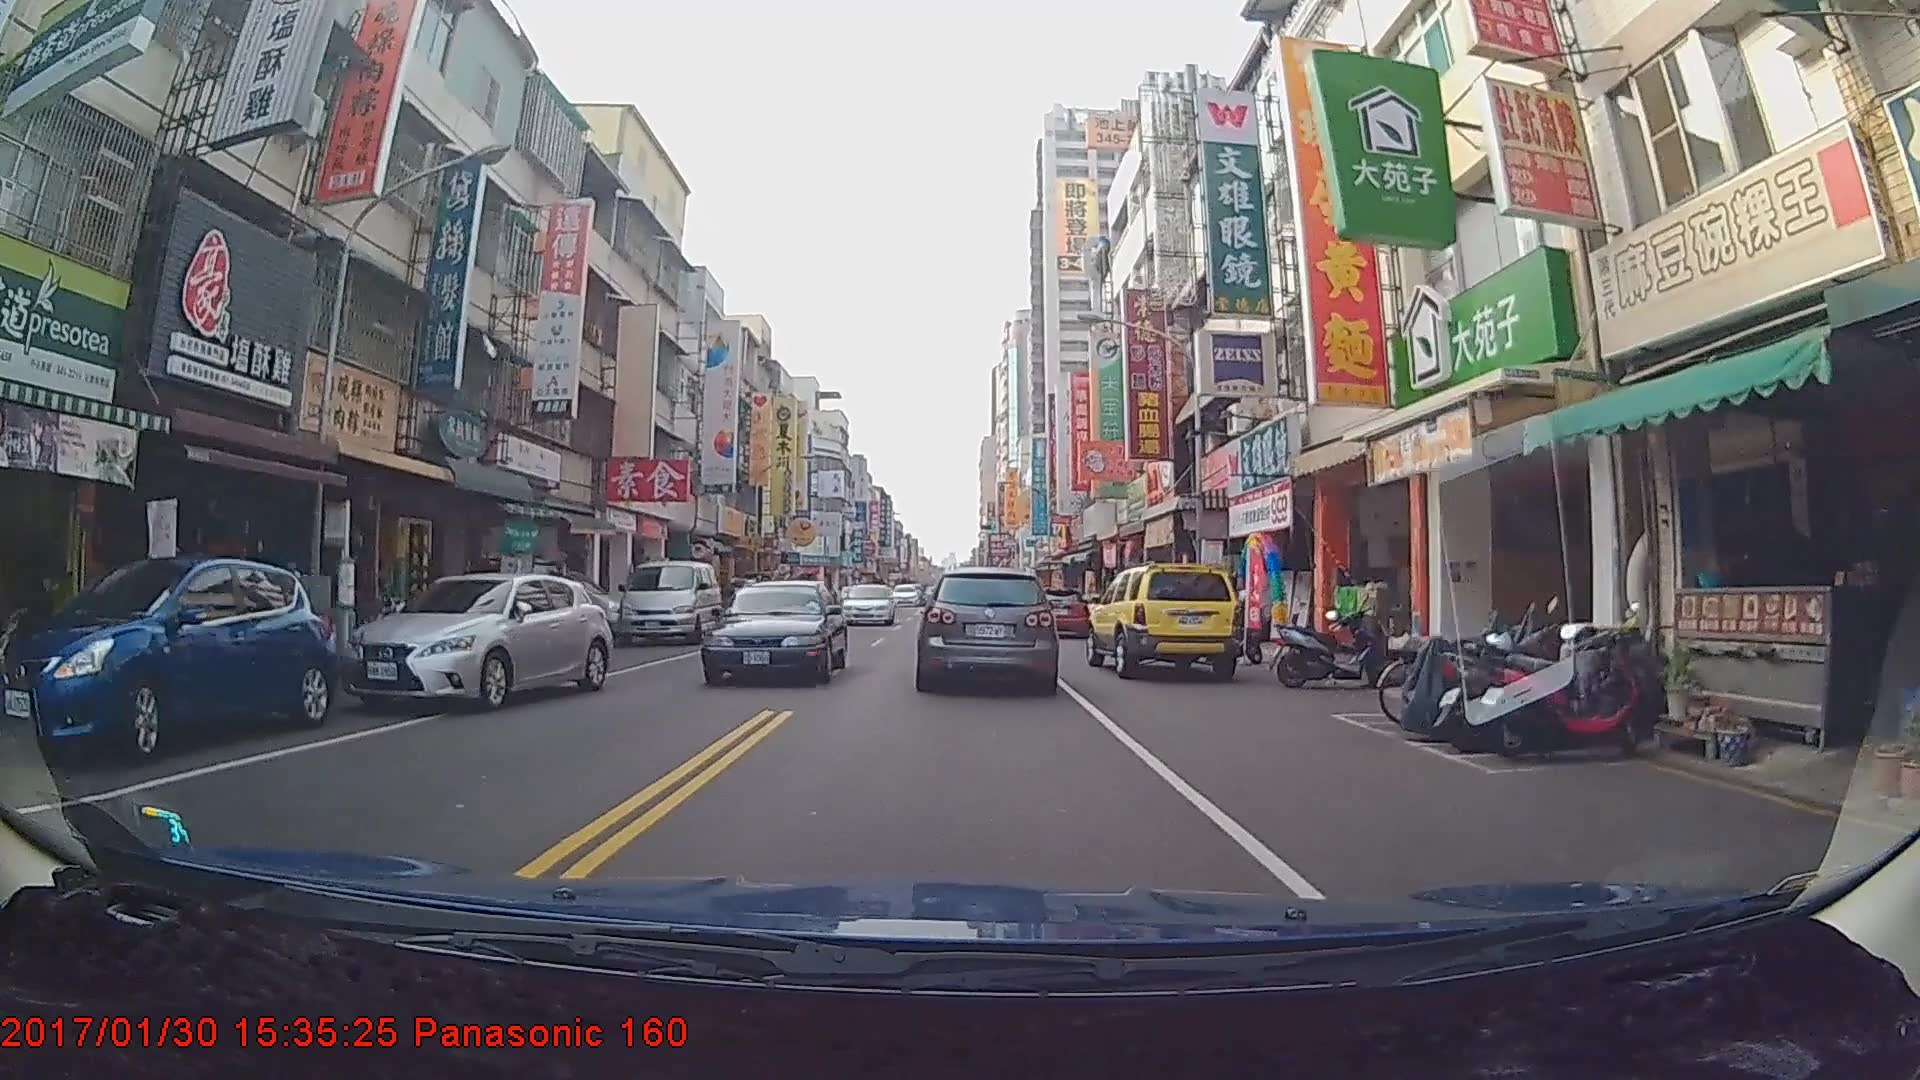vehicle: (0, 554, 338, 762), (335, 567, 615, 708), (1087, 558, 1242, 678), (915, 564, 1058, 692), (700, 576, 849, 684), (616, 560, 720, 644), (1026, 585, 1091, 638), (837, 584, 893, 628), (891, 583, 920, 605)
